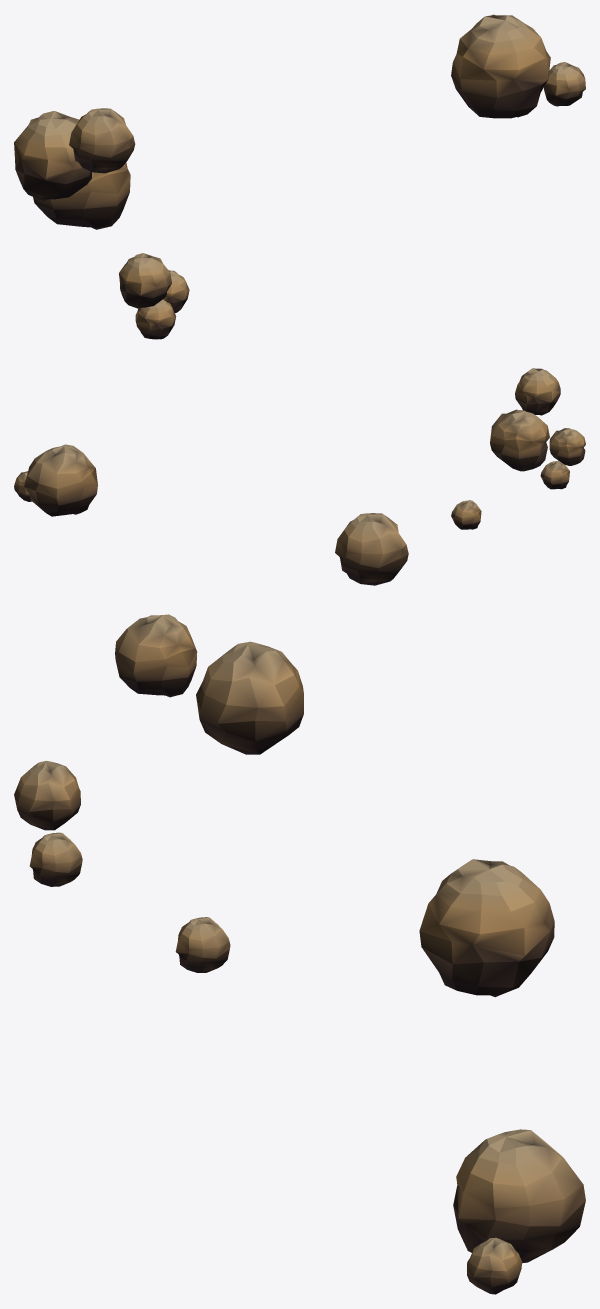
Rendered from level2BoulderBrkn_grp.fbx.
3 views of the same model, one above another, from view 1: azimuth 30°, elevation 25°; view 2: azimuth 150°, elevation 25°; view 3: azimuth 270°, elevation 25° (orthographic). The views are drawn at different scales.
Parts seen in each view (by area): view 1: boulder_03 (×6), boulder_02 (×3), boulder_01 (×3), boulder_04 (×3); view 2: boulder_04 (×6), boulder_02 (×5), boulder_03 (×3), boulder_01 (×2); view 3: boulder_04 (×7), boulder_03 (×2), boulder_02 (×5), boulder_01 (×2).
Boxes of the visible parts, <box> form: boulder_03 (×6): <box>14,18,578,324</box>; boulder_02 (×3): <box>33,48,518,229</box>; boulder_01 (×3): <box>15,63,550,308</box>; boulder_04 (×3): <box>52,14,523,208</box>; boulder_04 (×6): <box>24,409,575,567</box>; boulder_02 (×5): <box>24,381,584,585</box>; boulder_03 (×3): <box>335,371,559,557</box>; boulder_01 (×2): <box>335,392,560,583</box>; boulder_04 (×7): <box>20,615,585,1278</box>; boulder_03 (×2): <box>439,869,550,1220</box>; boulder_02 (×5): <box>14,637,585,1263</box>; boulder_01 (×2): <box>439,931,553,1256</box>.
Bounding box in the file's own units: 640 × 218 × 373.
